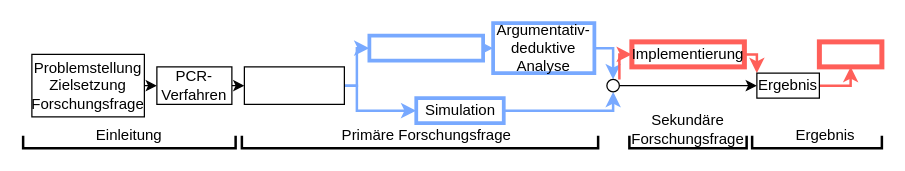
Some shapes in this 905 by 171 pixel diagram are drawn without their labels. Here are the shapes that lost their labels. From the top down, the centre of each, then its label:
At (425,47): "Kanalcodierung".
At (850,54): "Ausblick".
At (293,85): "PCR-Pooling Methoden".
